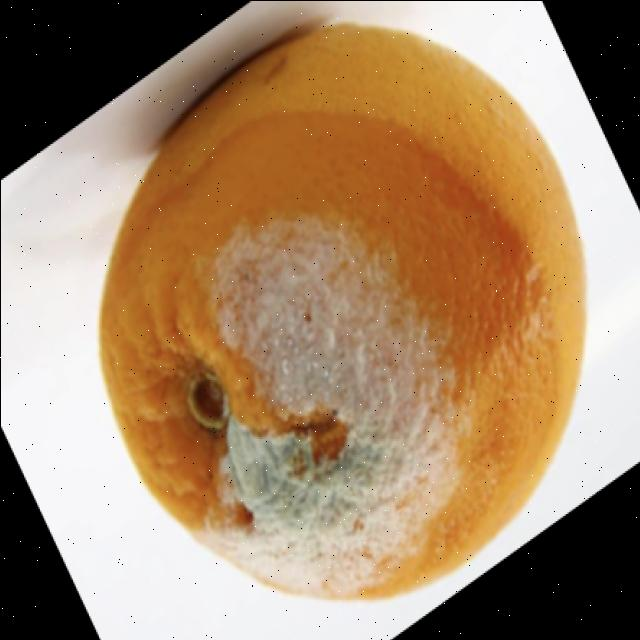Rotten: (96, 28, 589, 602)
